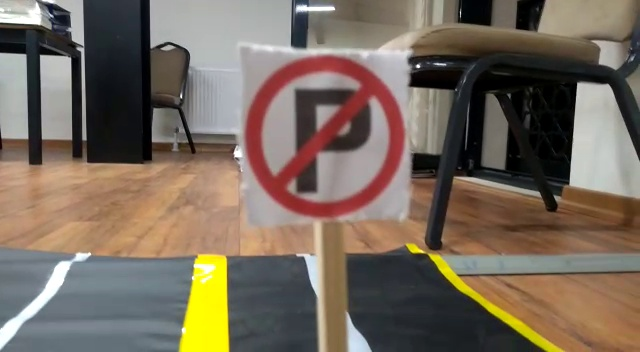park_yapilmaz: (240, 45, 408, 214)
